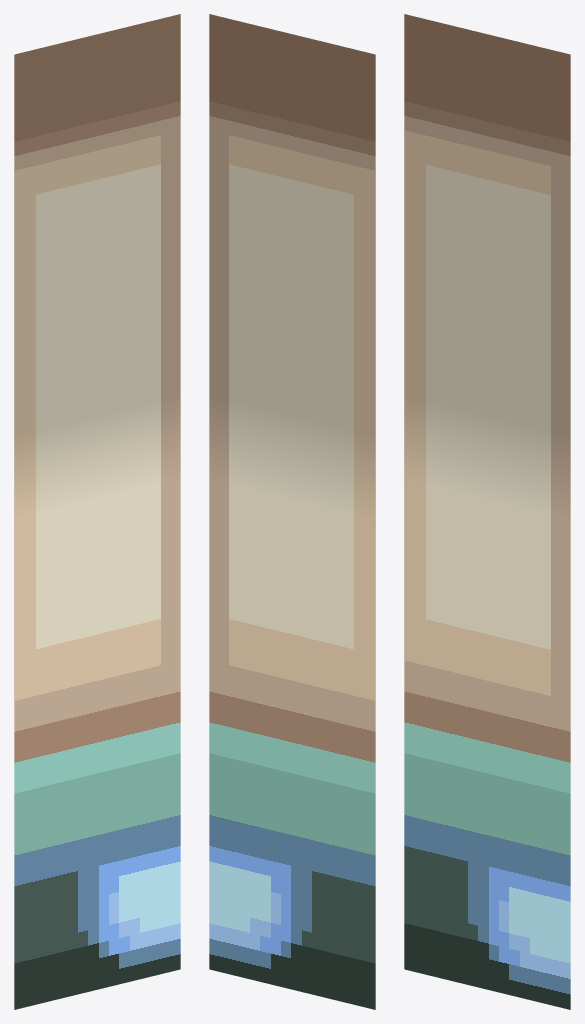
The picture shows the model from 3 angles, left to right: view 1: azimuth 30°, elevation 25°; view 2: azimuth 150°, elevation 25°; view 3: azimuth 330°, elevation 25°; orthographic projection.
Bounding box in the file's own units: 1 × 5.5 × 0.
1 material, 1 textured.
